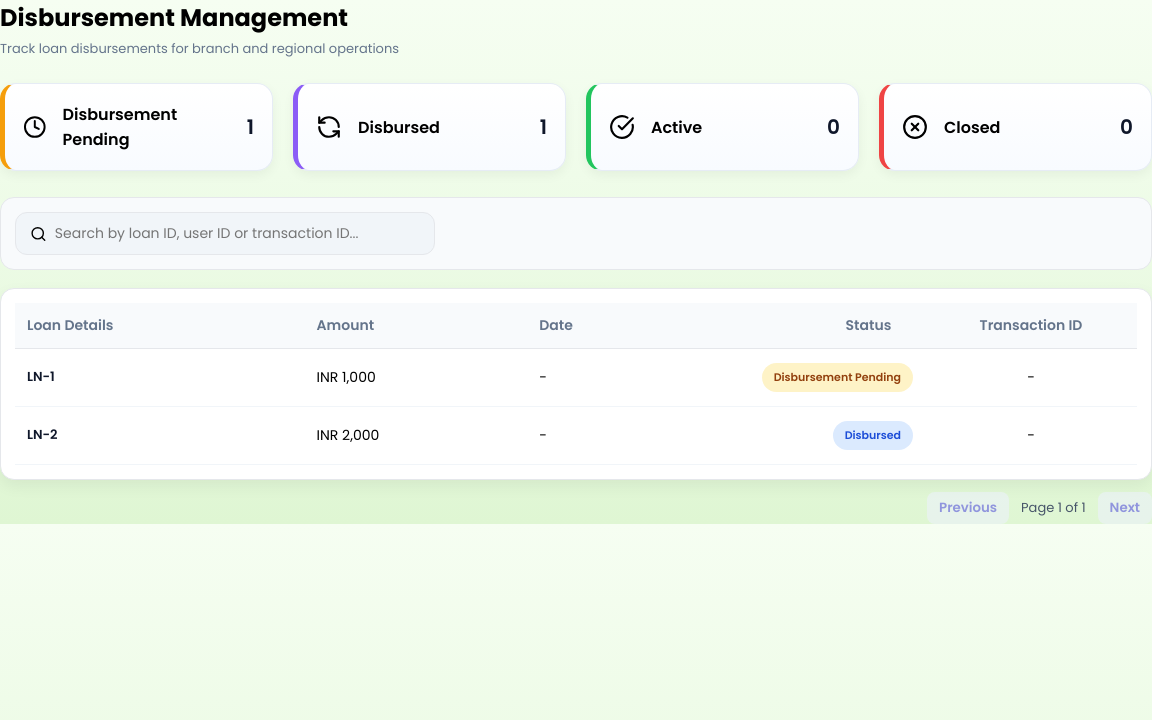
it: Disbursements › filters by status card
Expected: the text "LN-1" is shown, [27,367,55,386]
Click the text "Disbursed": [430, 127] box [293,83,566,171]
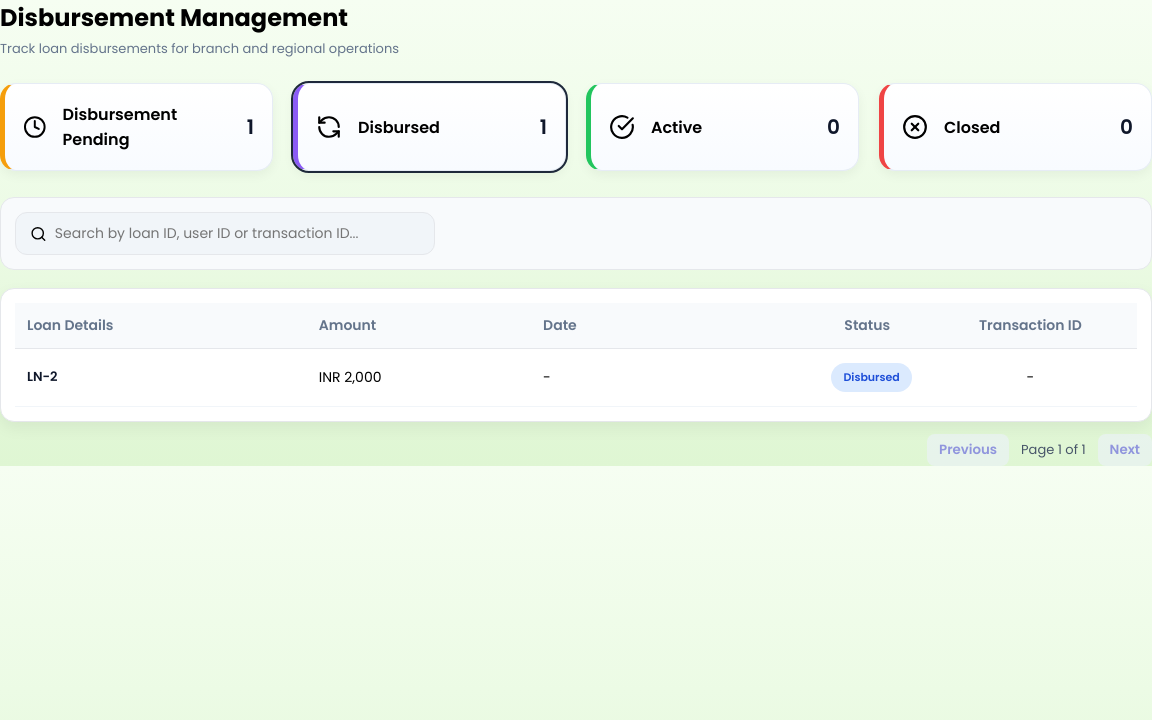
Expected: the text "LN-2" is shown, [27,367,58,386]
Expected: the text "LN-1" is gone
Click the text "Disbursed": [430, 127] box [293,83,566,171]
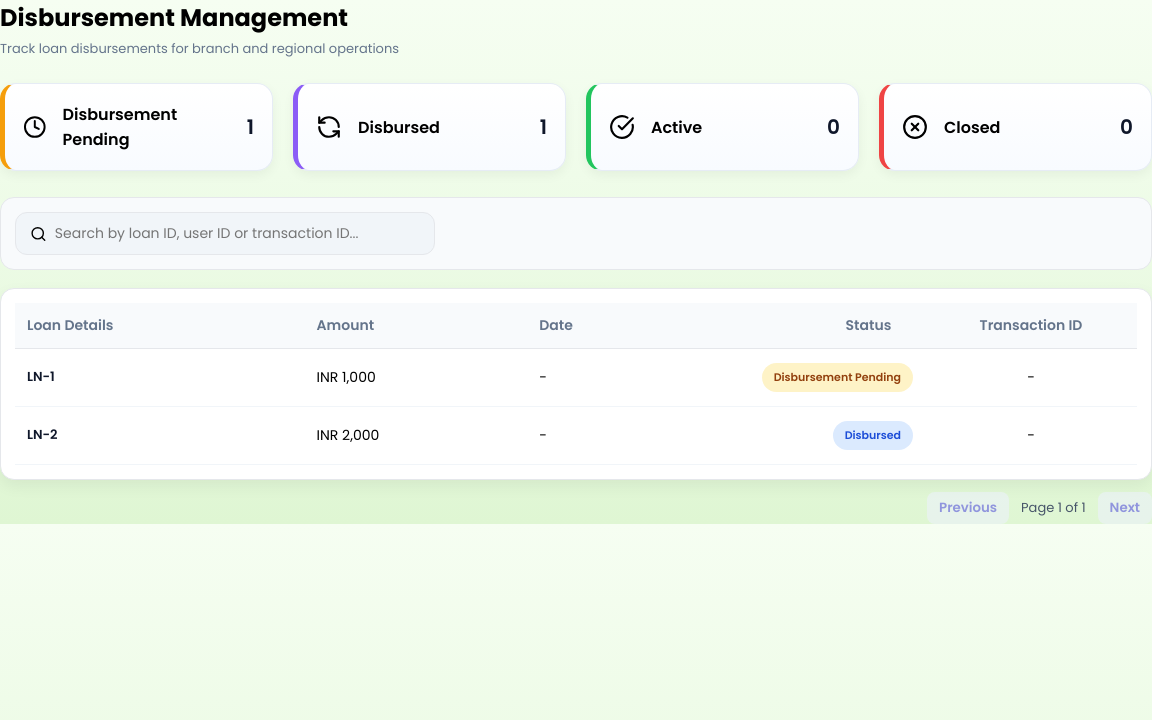
Expected: the text "LN-2" is shown, [27,425,58,444]
Expected: the text "LN-1" is shown, [27,367,55,386]
